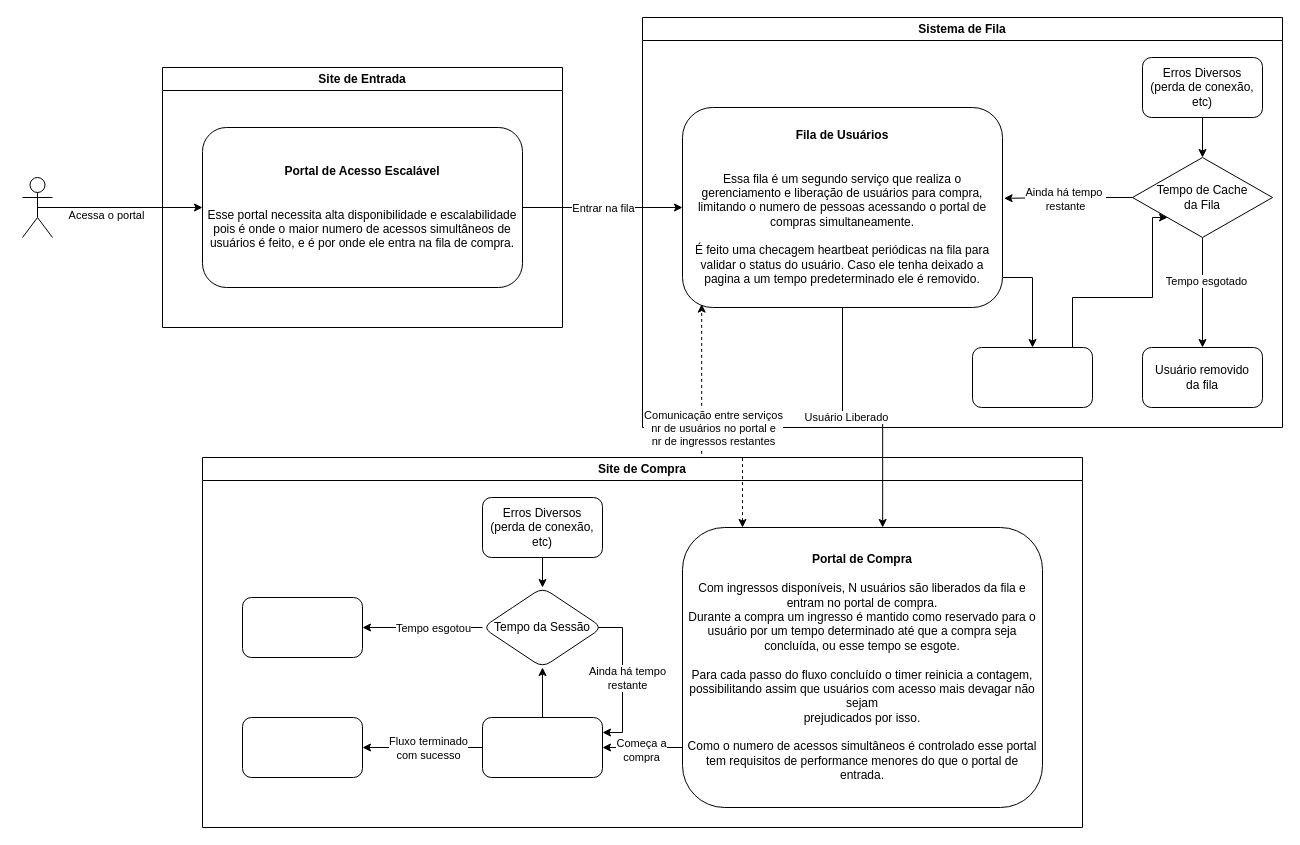
Some shapes in this 1300 by 845 pixel diagram are drawn without their labels. Each missing label, with the centre of its shape:
Check Heartbeat: (x=1032, y=377)
Compra Cancelada: (x=302, y=627)
Compra Finalizada: (x=302, y=747)
Fluxo de Compra: (x=542, y=747)
Usuário: (x=37, y=207)
